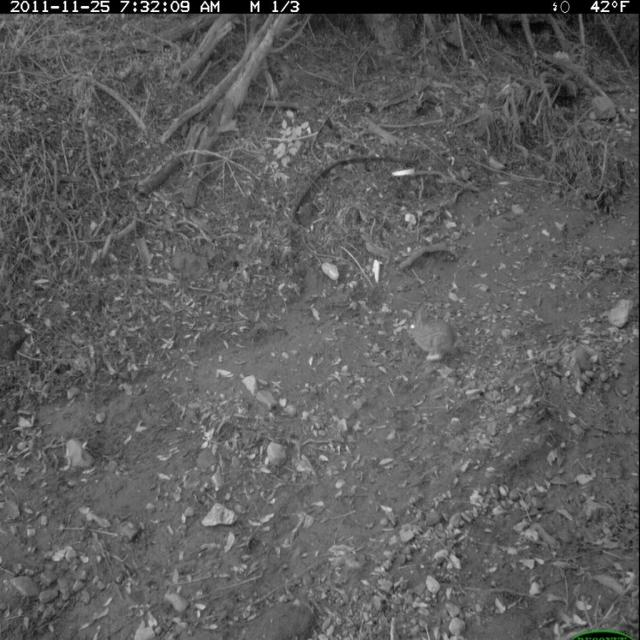rabbit: (403, 305, 466, 374)
